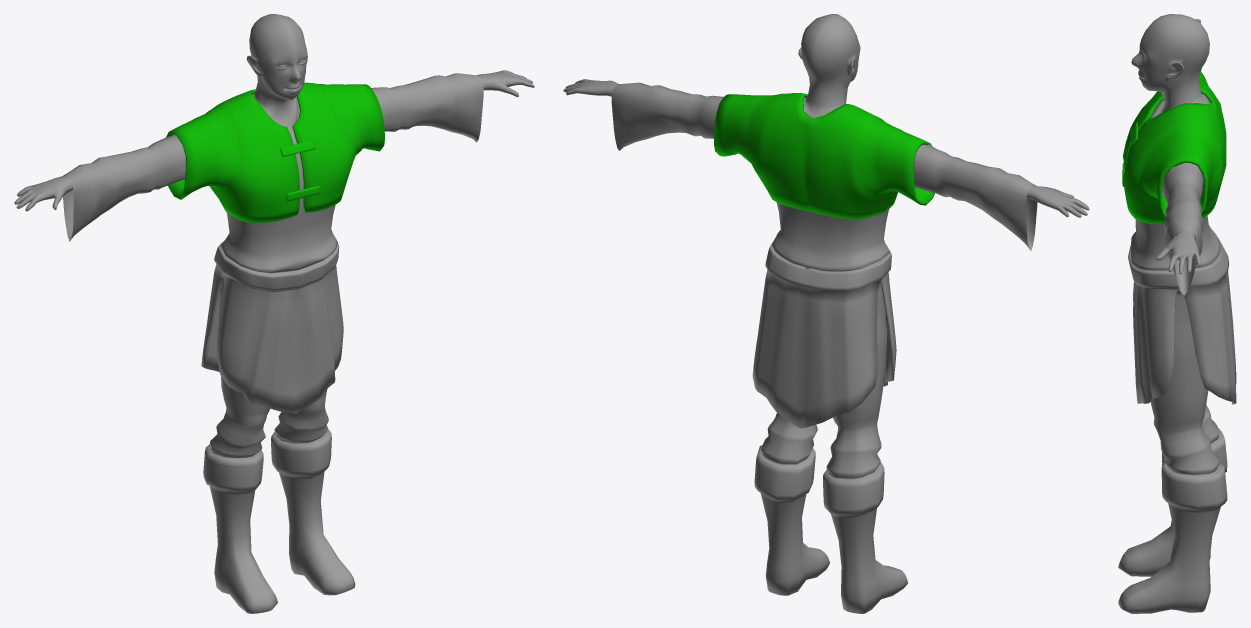
Rendered from Character_fur.FBX.
3 renders of one model, left to right at view 1: azimuth 30°, elevation 25°; view 2: azimuth 150°, elevation 25°; view 3: azimuth 270°, elevation 25°, orthographic.
Parts seen in each view (by area): view 1: Character_low001, Fell; view 2: Character_low001, Fell; view 3: Character_low001, Fell.
Part boxes in pixels (<box>): Character_low001: <box>14,14,534,613</box>; Fell: <box>166,82,384,222</box>; Character_low001: <box>563,14,1089,613</box>; Fell: <box>714,93,934,219</box>; Character_low001: <box>1118,14,1236,613</box>; Fell: <box>1122,71,1226,224</box>.
Bounding box in the file's own units: 173 × 182 × 33.96.
